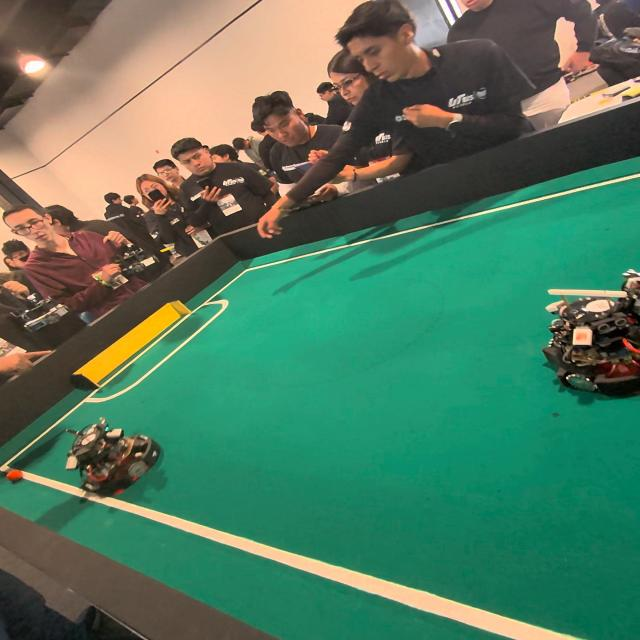Robot: (539, 272, 640, 408), (50, 416, 180, 504)
pelota: (9, 470, 23, 480)
